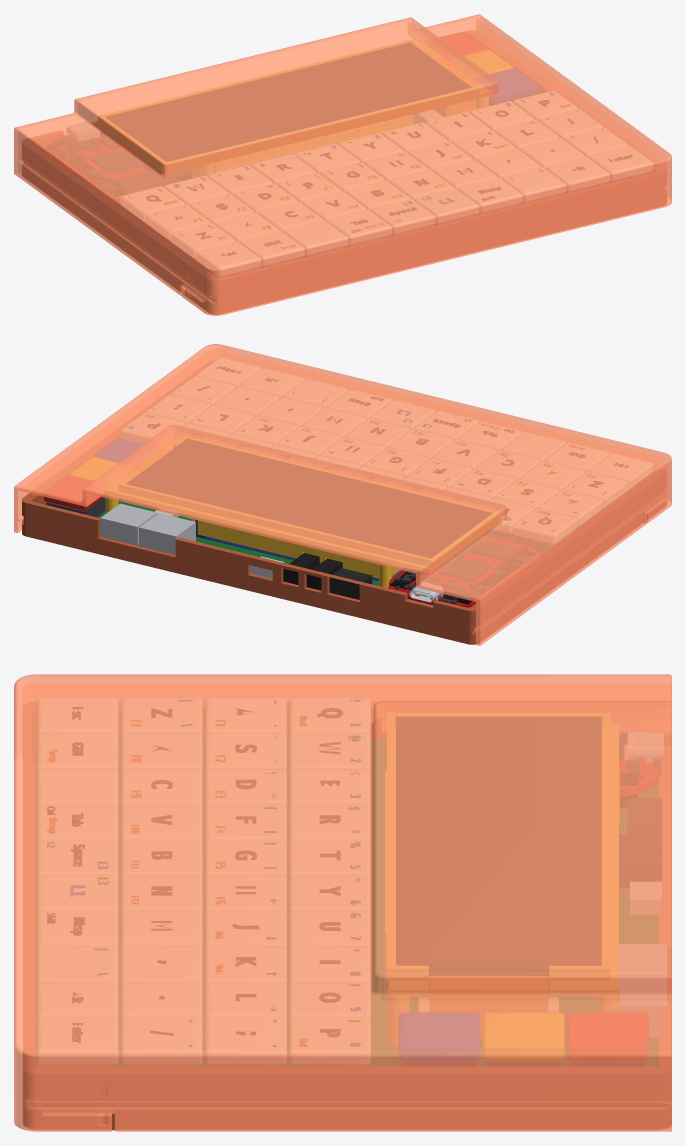
File: cover_terracotta.glb
The picture shows the model from 3 angles, top to bottom: view 1: azimuth 30°, elevation 25°; view 2: azimuth 150°, elevation 25°; view 3: azimuth 270°, elevation 25°; orthographic projection. The views are drawn at different scales.
Parts seen in each view (by area): view 1: Lid, Internals, Tray; view 2: Lid, Internals, Tray; view 3: Lid, Internals, Tray.
Part boxes in pixels (x1=…): Lid: x1=14, y1=14, x2=671, y2=315; Internals: x1=45, y1=32, x2=652, y2=276; Tray: x1=22, y1=31, x2=665, y2=314; Lid: x1=14, y1=344, x2=671, y2=645; Internals: x1=44, y1=358, x2=652, y2=607; Tray: x1=22, y1=361, x2=665, y2=644; Lid: x1=14, y1=674, x2=671, y2=1131; Internals: x1=36, y1=698, x2=666, y2=1065; Tray: x1=23, y1=702, x2=671, y2=1130.
Size of the model in its own units: 0.1818 by 0.0232 by 0.133.
